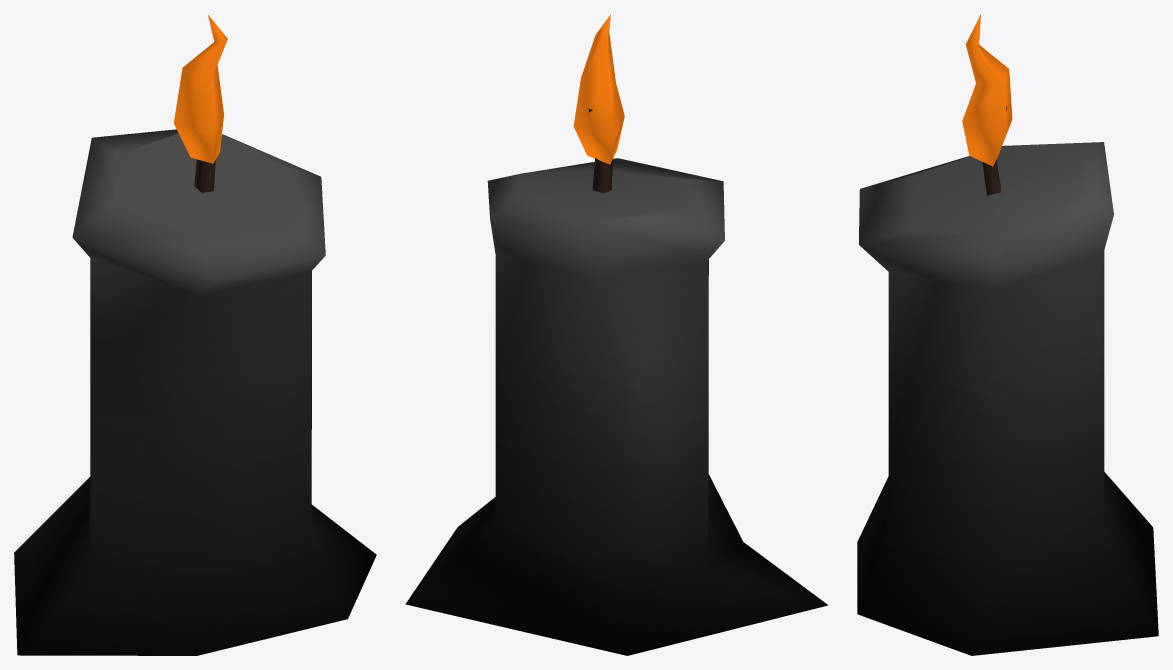
File: CandleShapeD.004.glb
3 views of the same model, side by side, from view 1: azimuth 30°, elevation 25°; view 2: azimuth 150°, elevation 25°; view 3: azimuth 270°, elevation 25° (orthographic). The views are drawn at different scales.
Parts seen in each view (by area): view 1: CandleShapeD.004; view 2: CandleShapeD.004; view 3: CandleShapeD.004.
Part boxes in pixels (bbox=[...]): CandleShapeD.004: bbox=[14, 15, 376, 655]; CandleShapeD.004: bbox=[405, 14, 828, 655]; CandleShapeD.004: bbox=[857, 14, 1158, 655].
Size of the model in its own units: 0.1822 by 0.2697 by 0.1308.
Materials: 2 (2 with a texture image).
